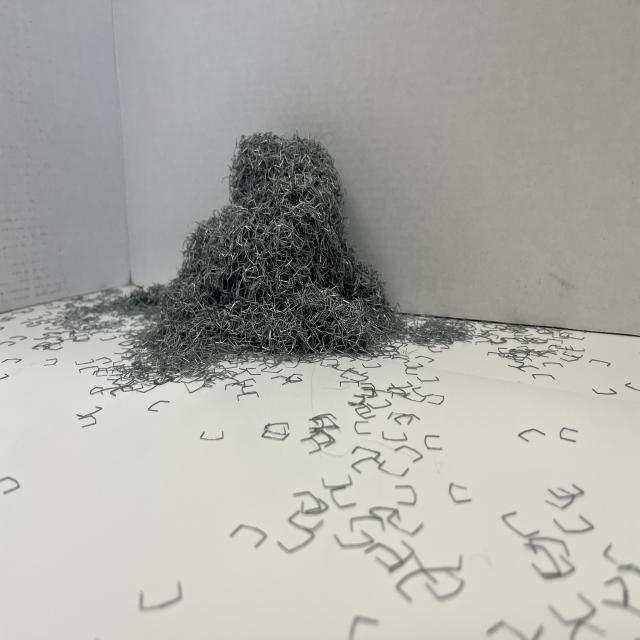staples: (133, 128, 405, 380)
